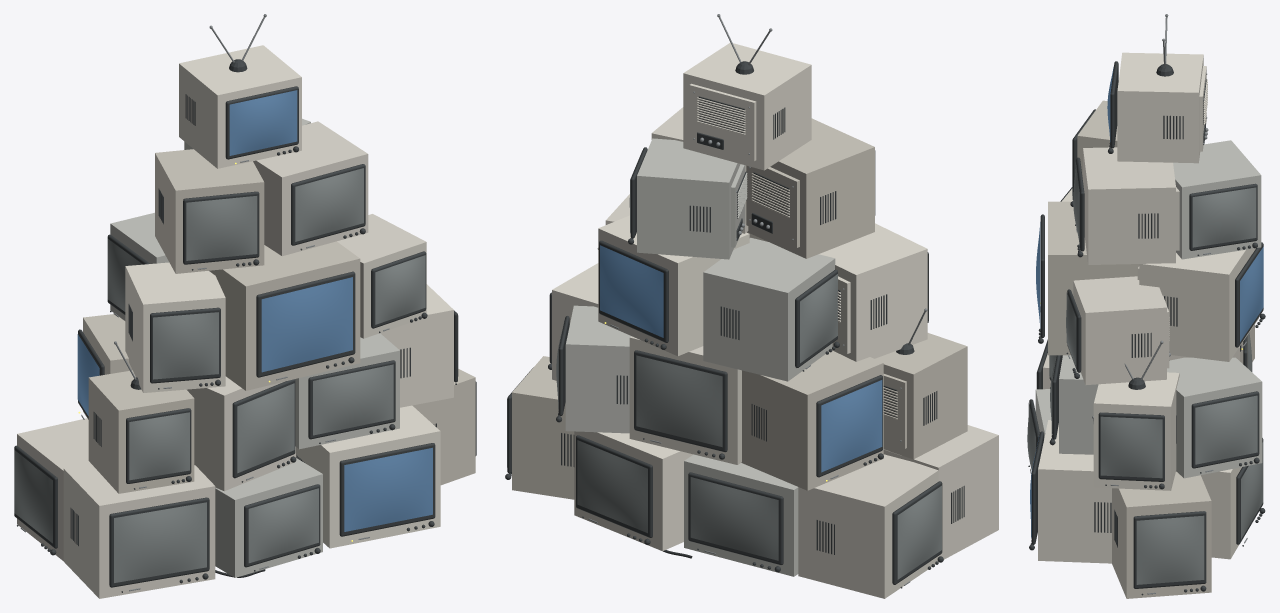
File: retro_tv_stack.glb
The picture shows the model from 3 angles, left to right: view 1: azimuth 30°, elevation 25°; view 2: azimuth 150°, elevation 25°; view 3: azimuth 270°, elevation 25°; orthographic projection. The views are drawn at different scales.
Parts seen in each view (by area): view 1: TV_16_Body, TV_01_Body, TV_23_Body, TV_20_Body, TV_15_Body, TV_03_Body, TV_08_Body, TV_21_Body, TV_16_Screen, TV_02_Body, TV_01_Screen, TV_03_Screen (+20 smaller); view 2: TV_05_Body, TV_23_Body, TV_18_Body, TV_20_Body, TV_22_Body, TV_12_Body, TV_15_Body, TV_08_Body, TV_14_Body, TV_04_Body, TV_01_Body, TV_19_Body (+12 smaller); view 3: TV_21_Body, TV_23_Body, TV_17_Body, TV_19_Body, TV_03_Body, TV_04_Body, TV_14_Body, TV_11_Body, TV_16_Body, TV_22_Body, TV_04_Screen, TV_11_Screen (+13 smaller).
Part boxes in pixels (x1,y1,x2,y2): TV_16_Body: (209,241,360,390); TV_01_Body: (63,464,215,598); TV_23_Body: (179,14,301,168); TV_20_Body: (155,149,264,273); TV_15_Body: (125,262,225,392); TV_03_Body: (296,405,440,548); TV_08_Body: (88,341,194,493); TV_21_Body: (253,121,368,256); TV_16_Screen: (261,277,352,372); TV_02_Body: (215,458,322,577); TV_01_Screen: (114,502,206,582); TV_03_Screen: (344,447,432,531); TV_05_Body: (798,454,943,598); TV_23_Body: (683,14,811,170); TV_18_Body: (703,237,839,381); TV_20_Body: (746,118,875,258); TV_22_Body: (628,138,747,259); TV_12_Body: (741,350,883,490); TV_15_Body: (819,223,928,361); TV_08_Body: (875,308,967,459); TV_14_Body: (556,305,631,433); TV_04_Body: (505,356,574,499); TV_01_Body: (883,425,998,562); TV_19_Body: (598,215,749,356); TV_21_Body: (1075,147,1179,264); TV_23_Body: (1108,14,1208,163); TV_17_Body: (1066,276,1170,384); TV_19_Body: (1137,242,1265,361); TV_03_Body: (1029,415,1111,563); TV_04_Body: (1112,471,1211,598); TV_14_Body: (1167,357,1262,478); TV_11_Body: (1093,340,1179,490); TV_16_Body: (1038,201,1139,355); TV_22_Body: (1173,140,1261,259); TV_04_Screen: (1136,515,1204,584); TV_11_Screen: (1100,416,1162,478).
Size of the model in its own units: 4.93 by 6.09 by 2.54.
